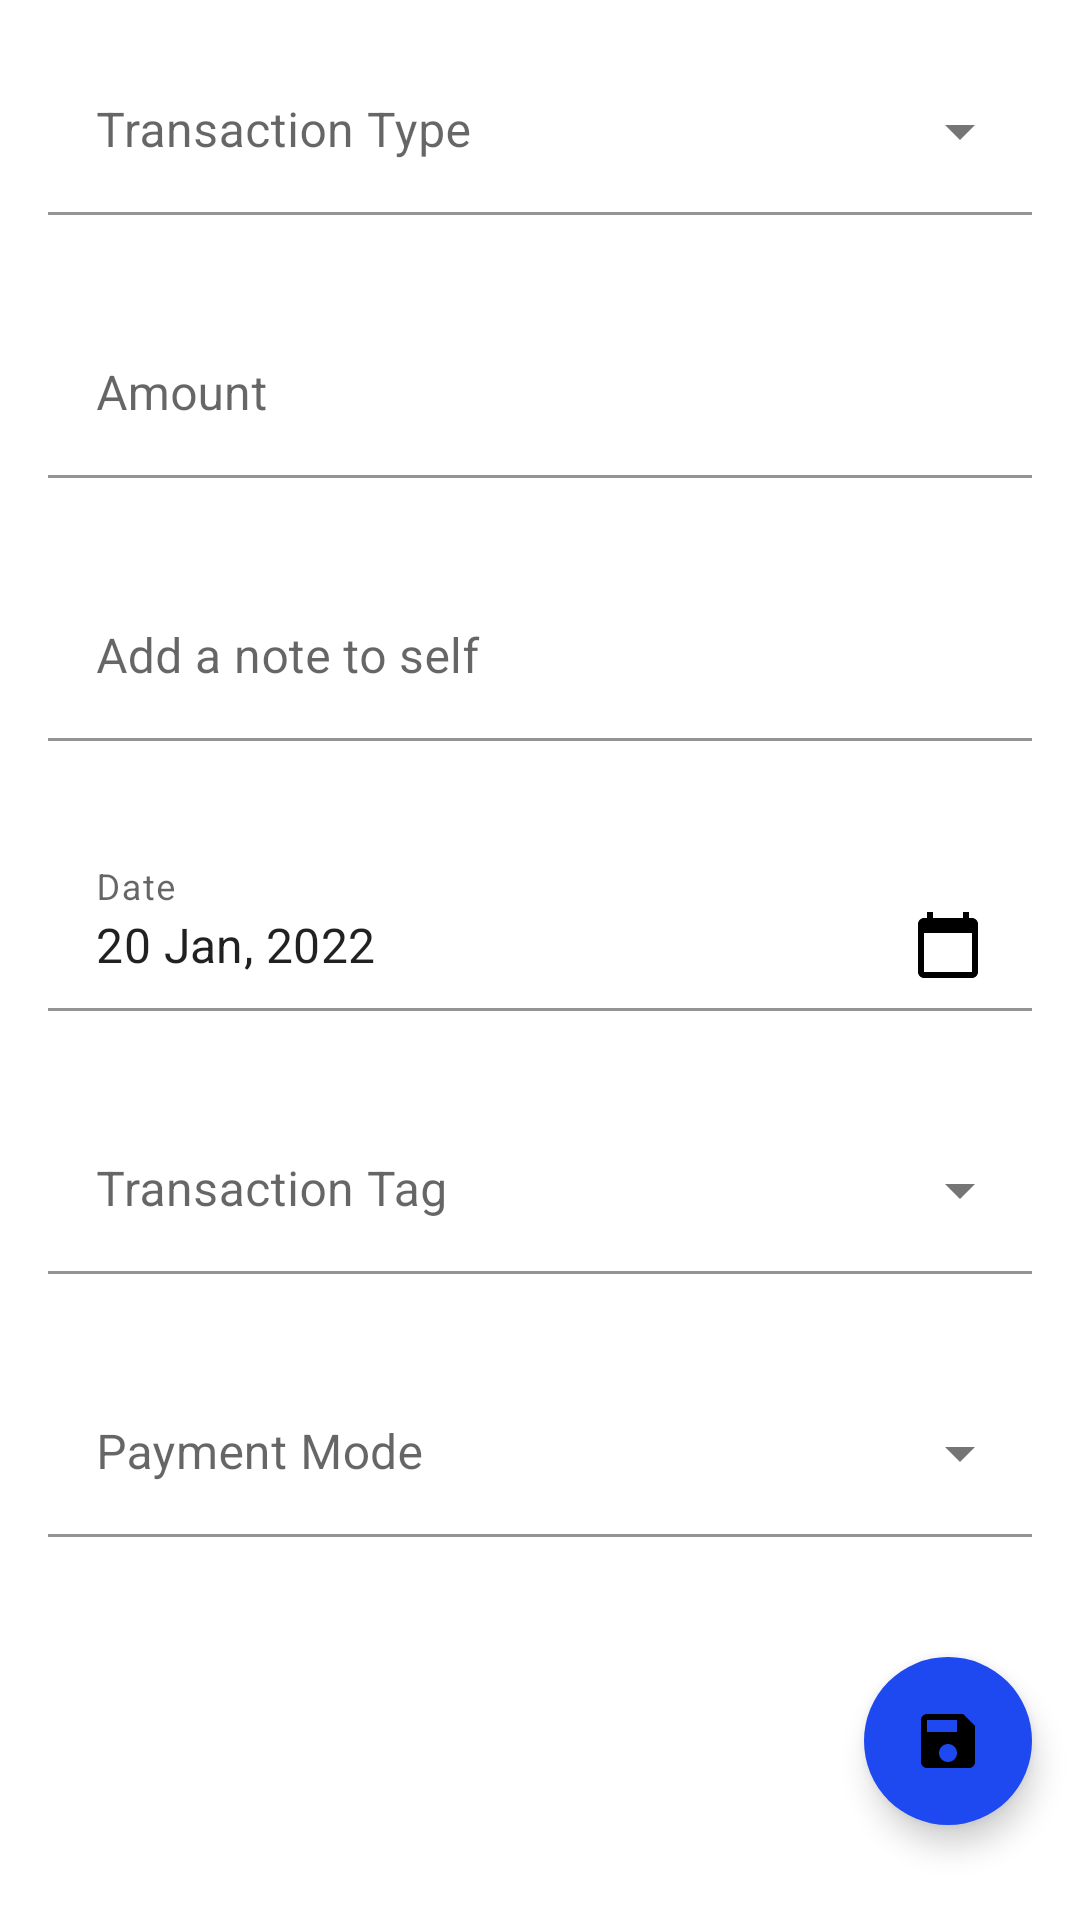

Screen size 1080×1920. Icon name, then its center in pixels as [x,y]:
save transaction button: [948,1741]
